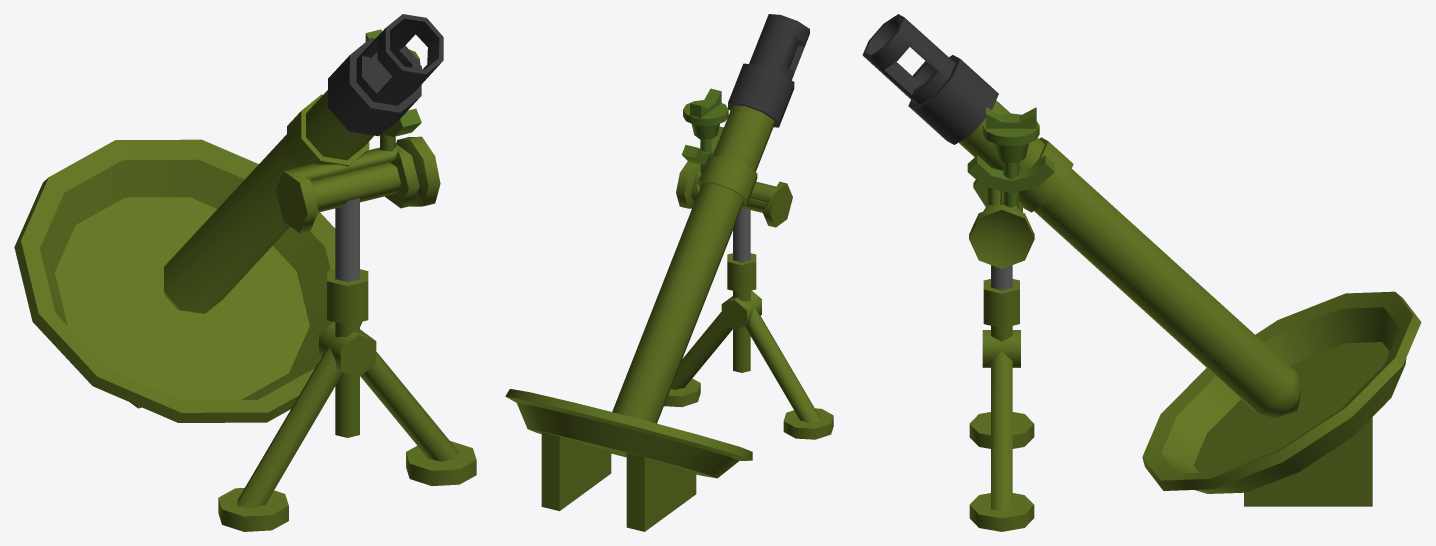
The model's file is Mortar_001.glb.
The picture shows the model from 3 angles, left to right: view 1: azimuth 30°, elevation 25°; view 2: azimuth 150°, elevation 25°; view 3: azimuth 270°, elevation 25°; orthographic projection. The views are drawn at different scales.
Parts seen in each view (by area): view 1: Mortar_001; view 2: Mortar_001; view 3: Mortar_001.
Part boxes in pixels (x1,y1,x2,y2): Mortar_001: (14,14,476,531); Mortar_001: (505,14,833,531); Mortar_001: (862,14,1421,531).
Size of the model in its own units: 0.7047 by 1.12 by 1.23.
Materials: 1 (1 with a texture image).
